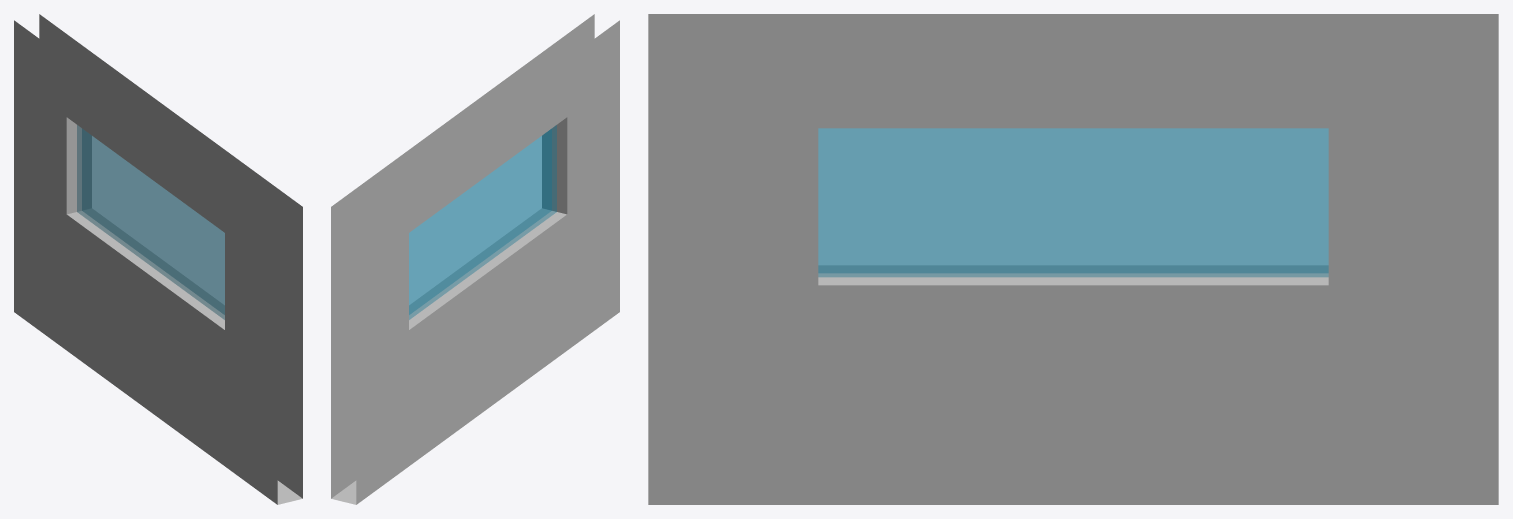
File: StationDoorSlide01.obj
3 renders of one model, left to right at view 1: azimuth 30°, elevation 25°; view 2: azimuth 150°, elevation 25°; view 3: azimuth 270°, elevation 25°, orthographic. The views are drawn at different scales.
Visible parts, largest first — view 1: HallwaySlideDoor01_Cube; view 2: HallwaySlideDoor01_Cube; view 3: HallwaySlideDoor01_Cube.
Boxes of the visible parts, bbox=[...] form: HallwaySlideDoor01_Cube: bbox=[14, 14, 302, 504]; HallwaySlideDoor01_Cube: bbox=[331, 14, 619, 504]; HallwaySlideDoor01_Cube: bbox=[648, 14, 1498, 504].
Size of the model in its own units: 1 by 11 by 18.
